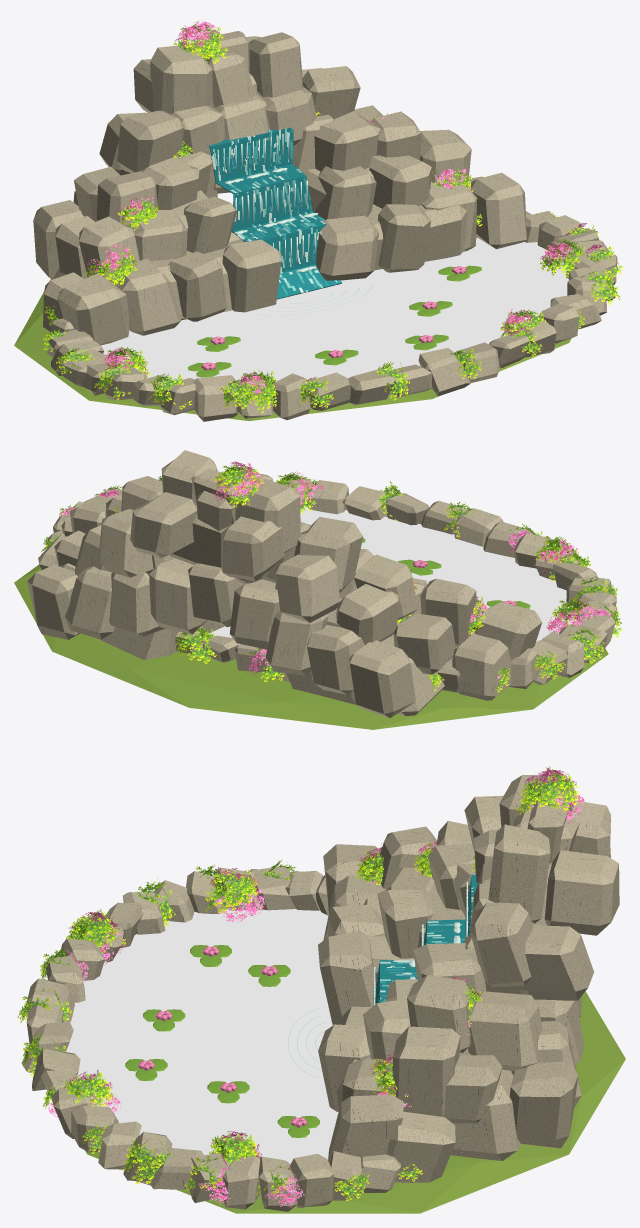
File: P11_rock_pond_v2.glb
The picture shows the model from 3 angles, top to bottom: view 1: azimuth 30°, elevation 25°; view 2: azimuth 150°, elevation 25°; view 3: azimuth 270°, elevation 25°; orthographic projection. The views are drawn at different scales.
Parts seen in each view (by area): view 1: GAME_V2_Warm_rock, GAME_V2_Teal_water, GAME_V2_Cascade, GAME_V2_Leaf_cutout.001, GAME_V2_Leaf_cutout, GAME_V2_Moss, GAME_V2_Blossom_cutout.001, GAME_V2_Lily, GAME_V2_Foam, GAME_V2_Lotus; view 2: GAME_V2_Warm_rock, GAME_V2_Moss, GAME_V2_Teal_water, GAME_V2_Leaf_cutout, GAME_V2_Leaf_cutout.001, GAME_V2_Blossom_cutout.001, GAME_V2_Blossom_cutout, GAME_V2_Lily; view 3: GAME_V2_Warm_rock, GAME_V2_Teal_water, GAME_V2_Moss, GAME_V2_Leaf_cutout.001, GAME_V2_Leaf_cutout, GAME_V2_Blossom_cutout.001, GAME_V2_Lily, GAME_V2_Cascade, GAME_V2_Blossom_cutout, GAME_V2_Lotus.
Part boxes in pixels (<box>): GAME_V2_Warm_rock: <box>33,31,617,421</box>; GAME_V2_Teal_water: <box>101,238,568,381</box>; GAME_V2_Cascade: <box>208,127,341,299</box>; GAME_V2_Leaf_cutout.001: <box>85,19,584,413</box>; GAME_V2_Leaf_cutout: <box>43,54,623,410</box>; GAME_V2_Moss: <box>14,279,571,420</box>; GAME_V2_Blossom_cutout.001: <box>86,21,579,396</box>; GAME_V2_Lily: <box>188,265,481,377</box>; GAME_V2_Foam: <box>217,132,321,272</box>; GAME_V2_Lotus: <box>201,266,466,370</box>; GAME_V2_Warm_rock: <box>27,450,616,718</box>; GAME_V2_Moss: <box>14,564,608,729</box>; GAME_V2_Teal_water: <box>209,506,576,644</box>; GAME_V2_Leaf_cutout: <box>41,476,622,692</box>; GAME_V2_Leaf_cutout.001: <box>111,464,593,634</box>; GAME_V2_Blossom_cutout.001: <box>211,461,595,632</box>; GAME_V2_Blossom_cutout: <box>59,482,610,680</box>; GAME_V2_Lily: <box>362,538,530,608</box>; GAME_V2_Warm_rock: <box>21,775,619,1211</box>; GAME_V2_Teal_water: <box>66,908,338,1163</box>; GAME_V2_Moss: <box>85,991,625,1213</box>; GAME_V2_Leaf_cutout.001: <box>63,767,584,1163</box>; GAME_V2_Leaf_cutout: <box>17,859,475,1200</box>; GAME_V2_Blossom_cutout.001: <box>64,766,584,1161</box>; GAME_V2_Lily: <box>125,945,319,1137</box>; GAME_V2_Cascade: <box>375,874,477,1003</box>; GAME_V2_Blossom_cutout: <box>48,867,461,1207</box>; GAME_V2_Lotus: <box>138,946,307,1127</box>.
Size of the model in its own units: 6.64 by 2.8 by 5.22.
13 materials, 6 textured.
